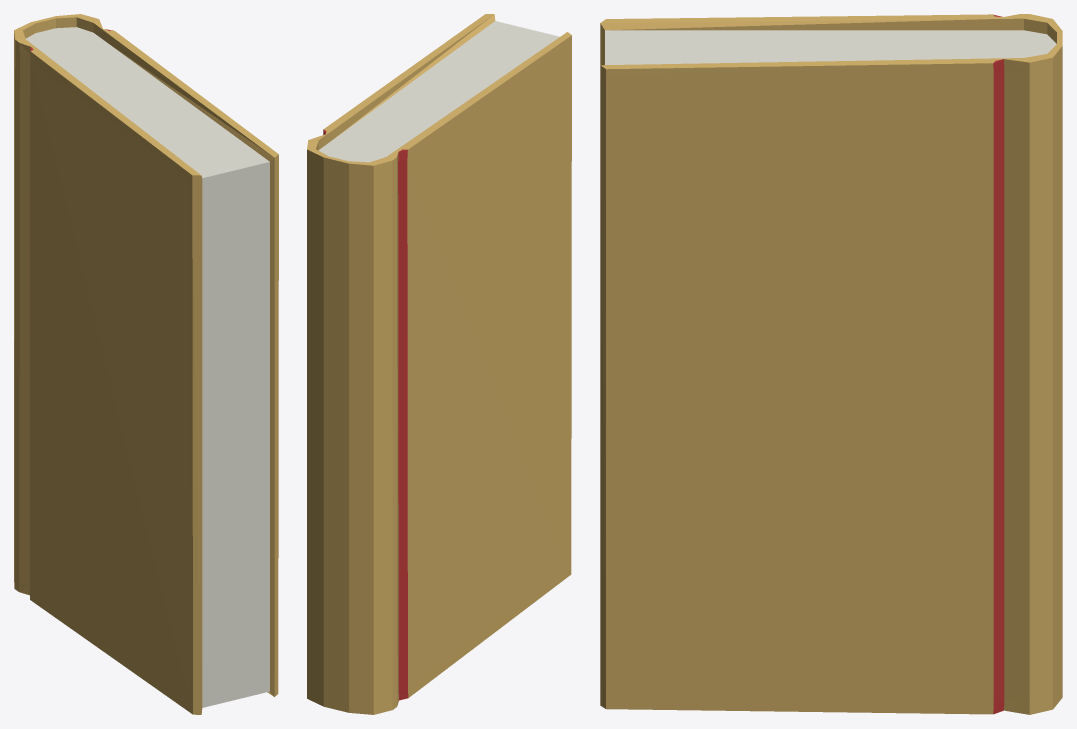
File: Book1.fbx
The picture shows the model from 3 angles, left to right: view 1: azimuth 30°, elevation 25°; view 2: azimuth 150°, elevation 25°; view 3: azimuth 270°, elevation 25°; orthographic projection. The views are drawn at different scales.
Visible parts, largest first — view 1: pCube9; view 2: pCube9; view 3: pCube9.
Boxes of the visible parts, x1,y1,x2,y2 form: pCube9: (14, 14, 278, 714); pCube9: (307, 14, 571, 714); pCube9: (600, 14, 1062, 714).
Size of the model in its own units: 1.17 by 7.11 by 4.57.
